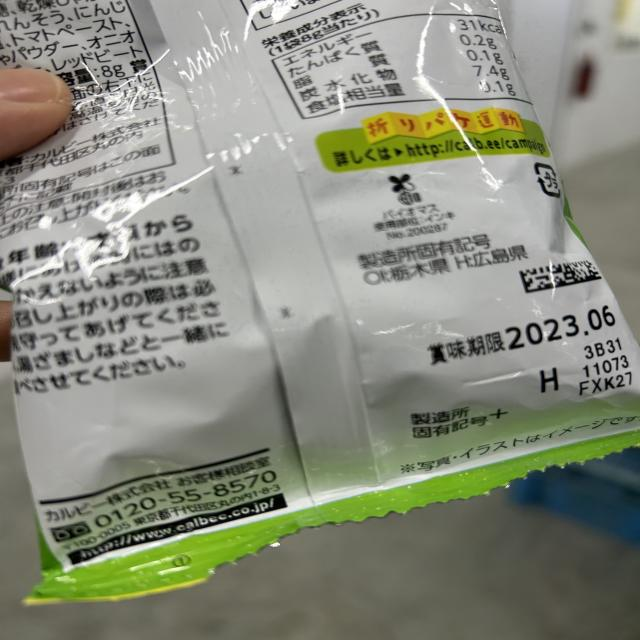object_name: (28, 8, 601, 467)
